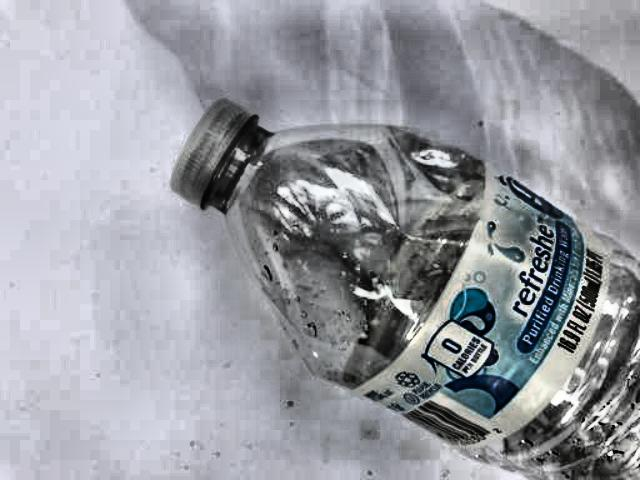Bottles: (95, 0, 640, 480)
